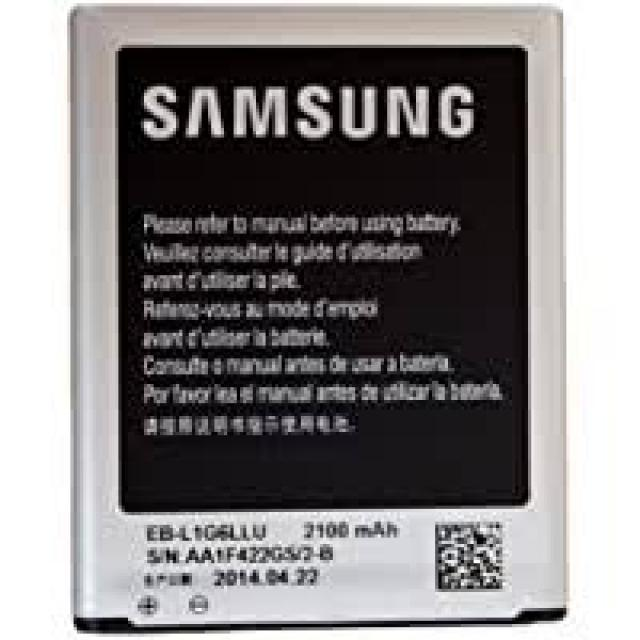non-organic waste: (67, 4, 570, 621)
